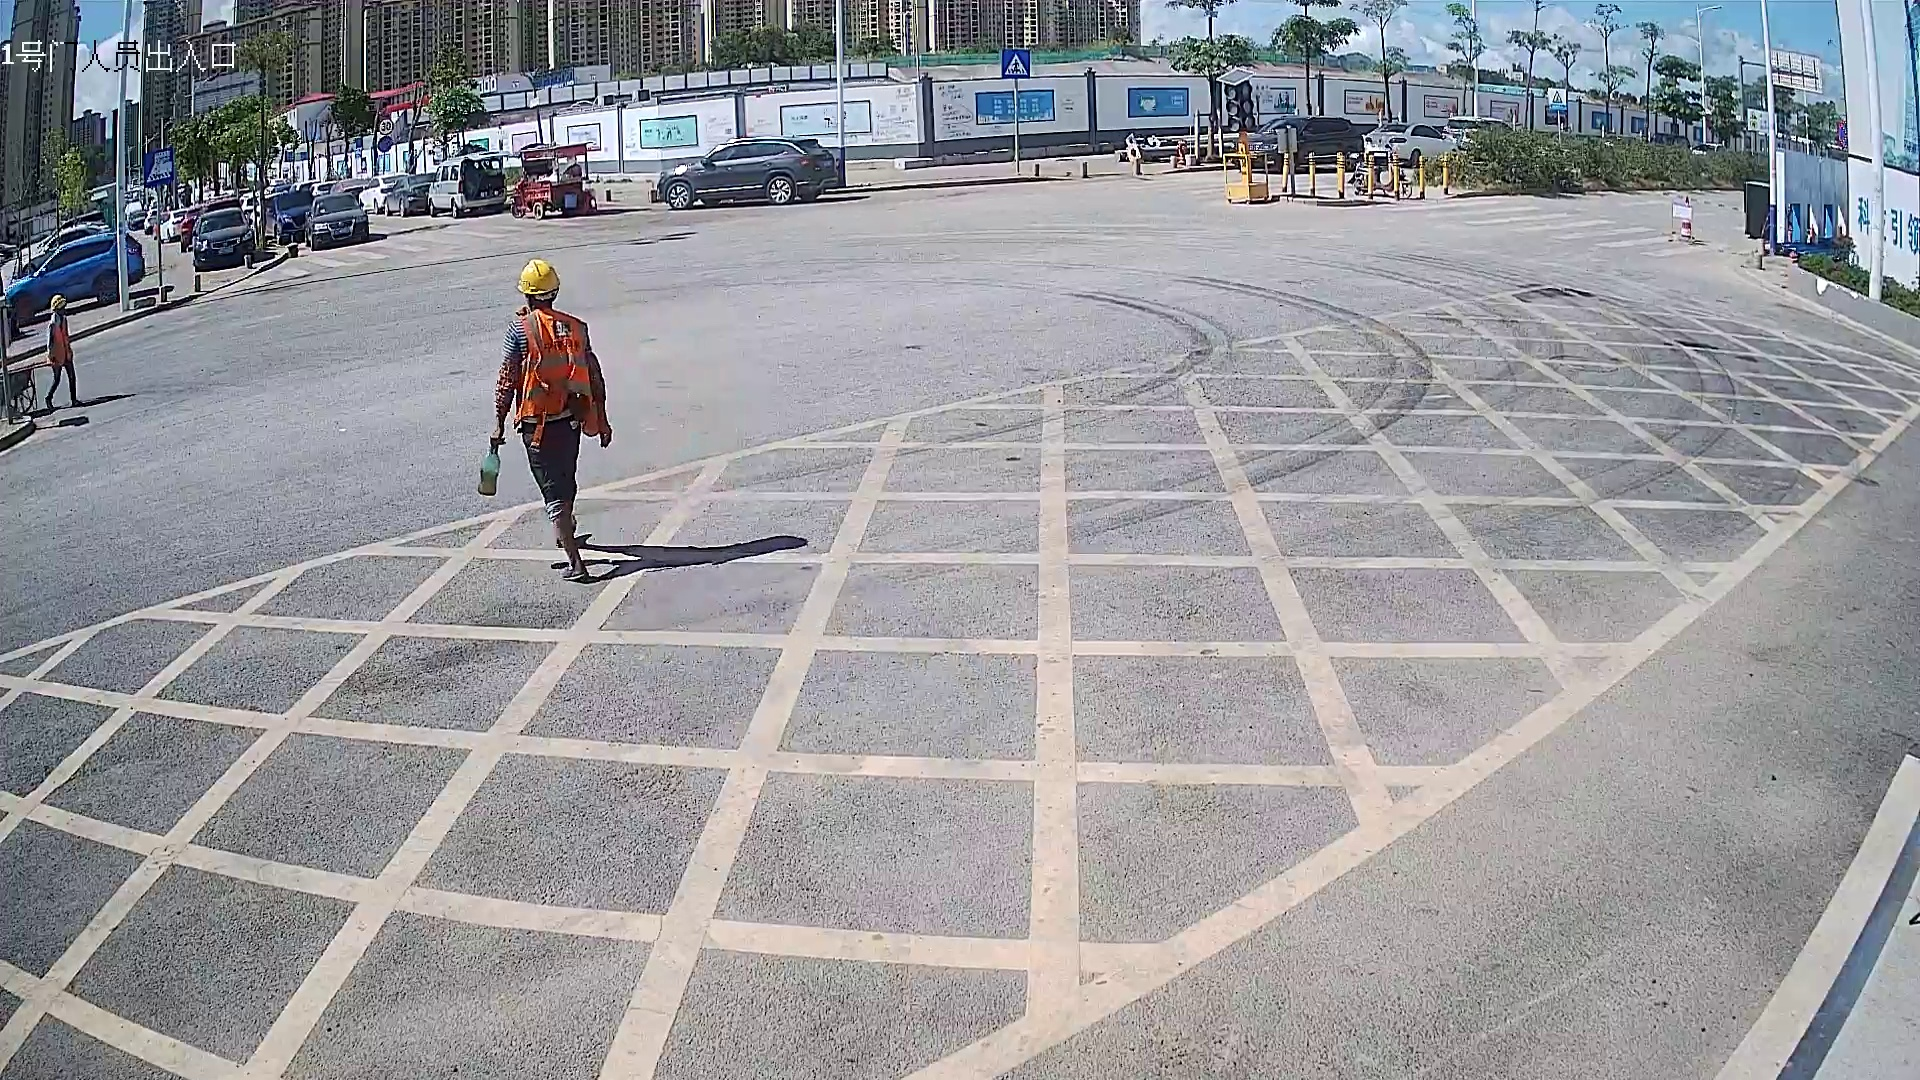person: (489, 256, 614, 584), (43, 294, 86, 414)
reflective_vest: (512, 307, 600, 438), (46, 314, 73, 366)
safety_helmet: (515, 256, 564, 310), (50, 294, 68, 316)
